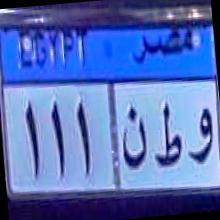1: (44, 98, 67, 188), (73, 101, 98, 177), (22, 100, 43, 179)
Taa: (150, 98, 184, 172)
noon: (115, 100, 154, 174)
waw: (181, 98, 220, 174)
